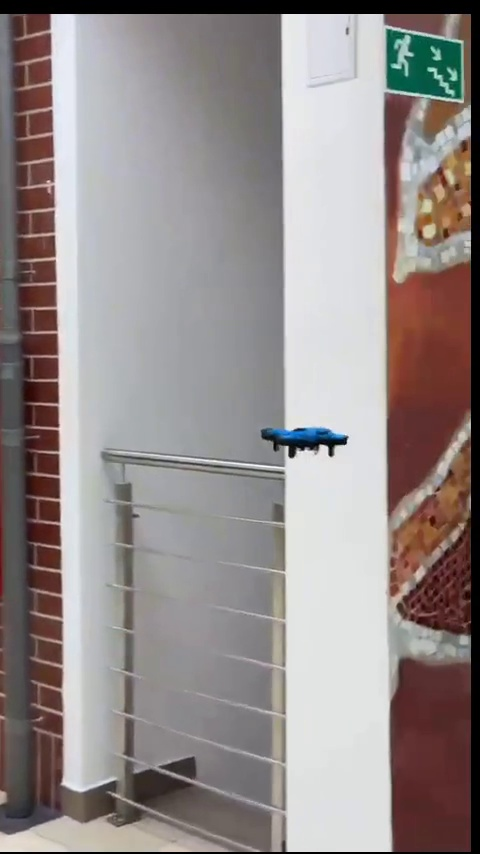drone: (267, 423, 349, 455)
